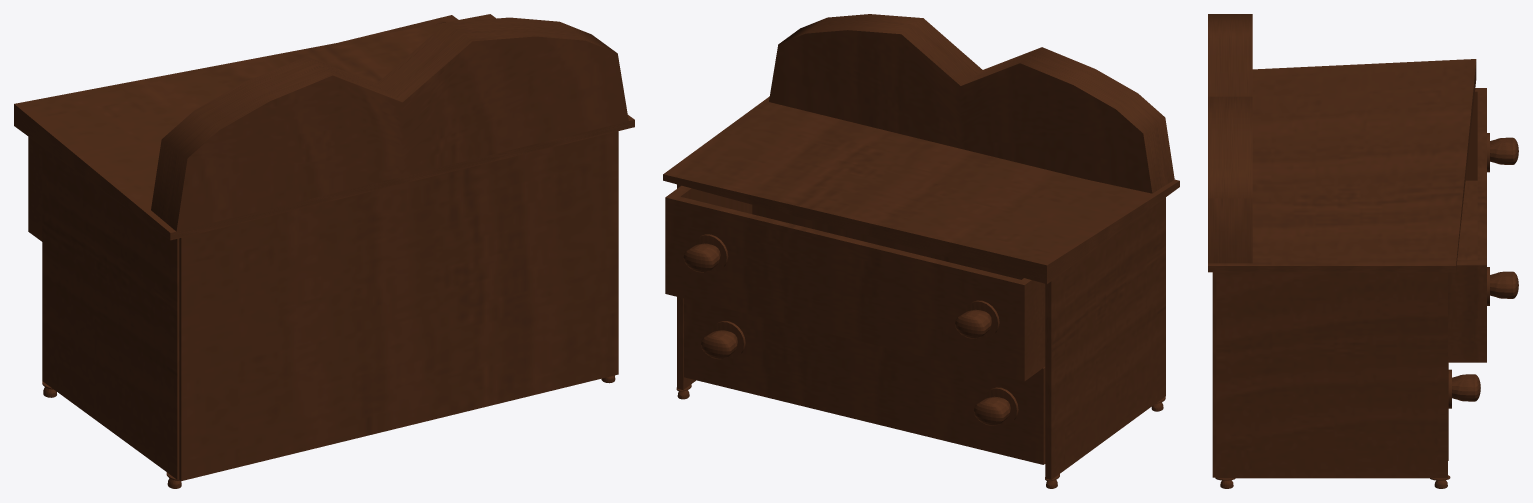
File: golbindressertextured.fbx
The picture shows the model from 3 angles, left to right: view 1: azimuth 30°, elevation 25°; view 2: azimuth 150°, elevation 25°; view 3: azimuth 270°, elevation 25°; orthographic projection. The views are drawn at different scales.
Parts seen in each view (by area): view 1: pCube5; view 2: pCube5; view 3: pCube5.
Boxes of the visible parts, x1,y1,x2,y2 form: pCube5: (14,14,634,488); pCube5: (663,14,1179,488); pCube5: (1208,14,1518,488).
Bounding box in the file's own units: 12.67 × 10.01 × 8.56.
